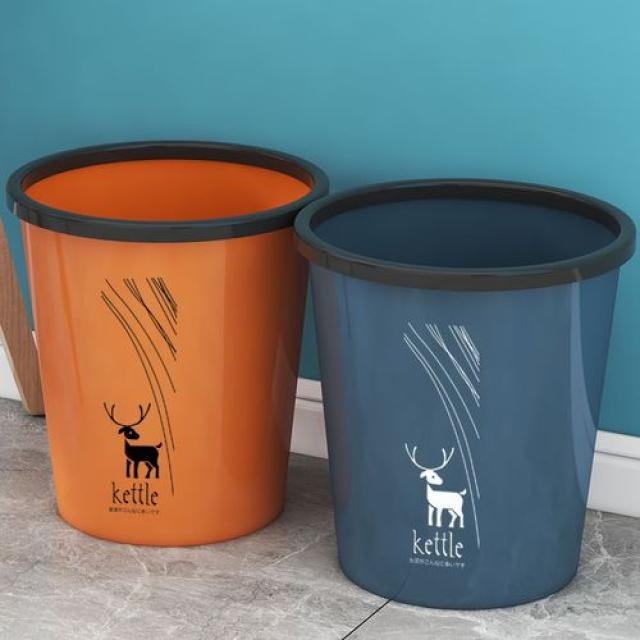dustbin: (290, 169, 636, 616), (5, 139, 335, 550)
